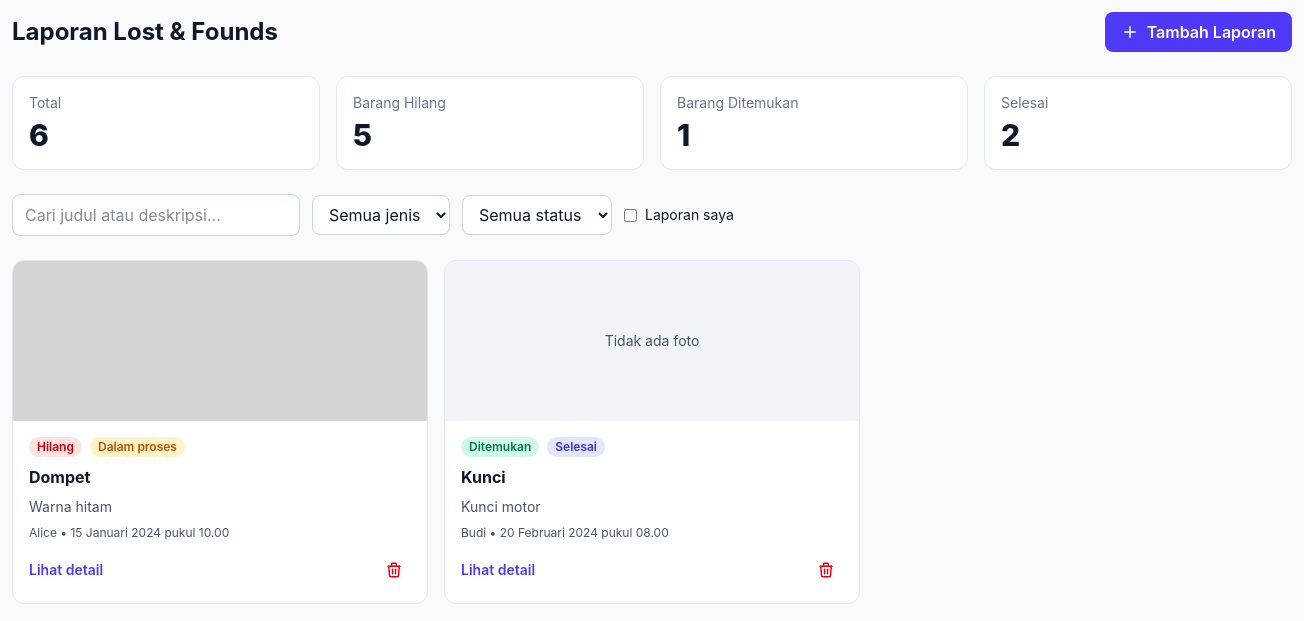
Test case: HomePage › mencari laporan berdasarkan deskripsi
Expected: the heading "Dompet" is shown, [29,467,90,487]
Step 1. Type "hitam" into the search field named "Cari laporan" → (156, 215), box [12,194,300,236]
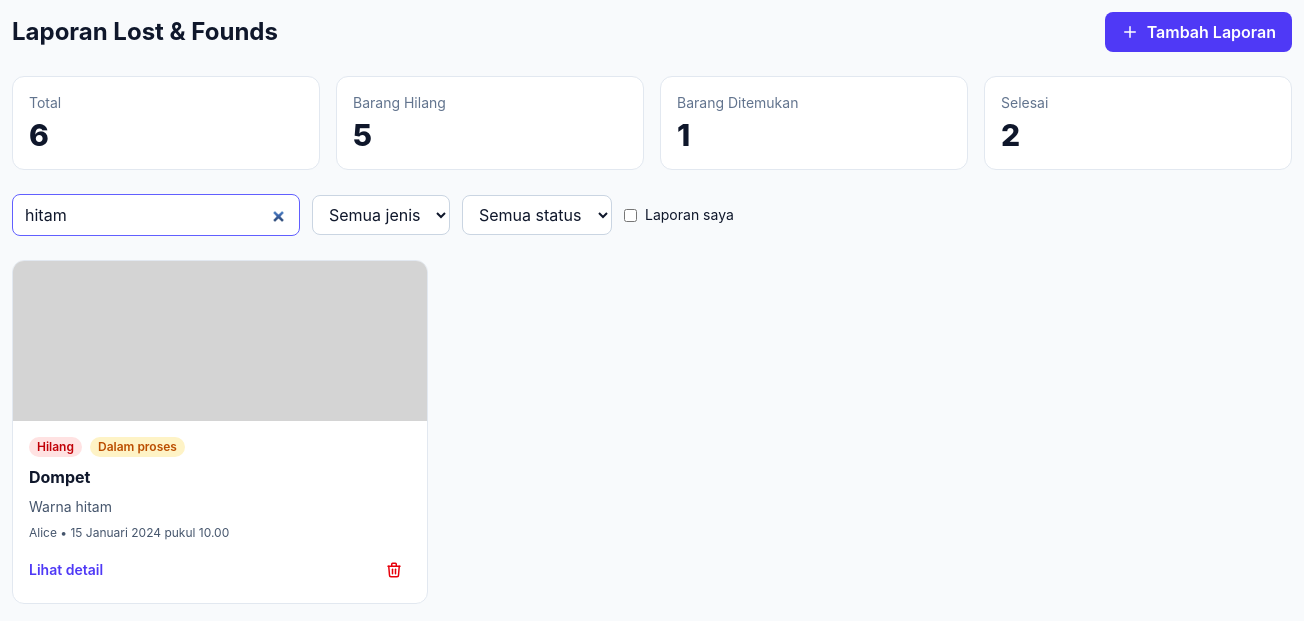
Expected: the heading "Dompet" is shown, [29,467,90,487]
Expected: the heading "Kunci" is gone
